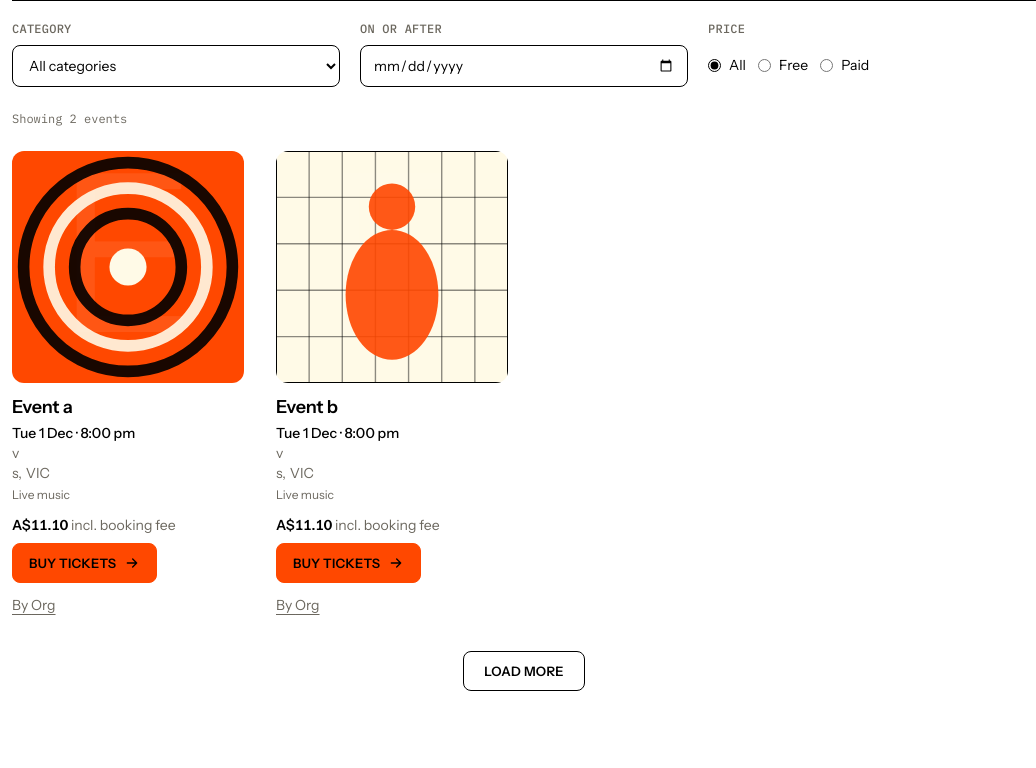
LiveEventFeed — pagination against the public API › loads more than one page via 'Load more' and shows every item across pages
Check: the link "Event a" is shown, box [12,396,72,418]
Check: the link "Event b" is shown, box [276,396,338,418]
Click the button "Load more" at coordinates (524, 671), box [463,651,585,691]
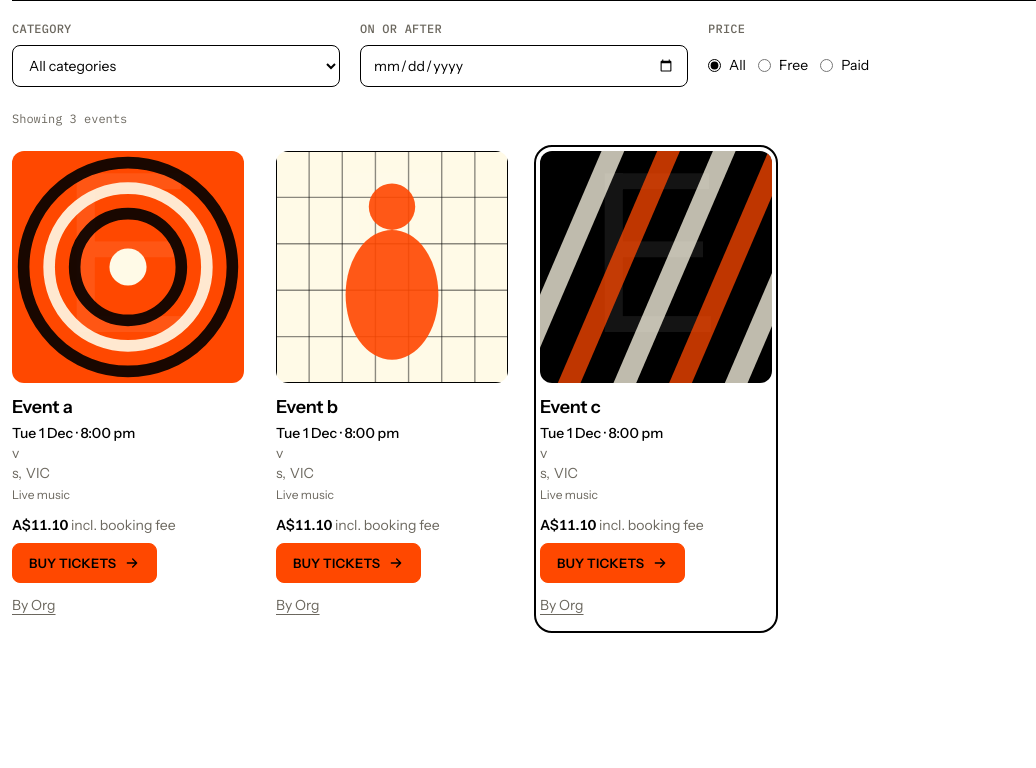
Check: the link "Event a" is shown, box [12,396,72,418]
Check: the link "Event c" is shown, box [540,396,600,418]
Check: the button "Load more" is gone
